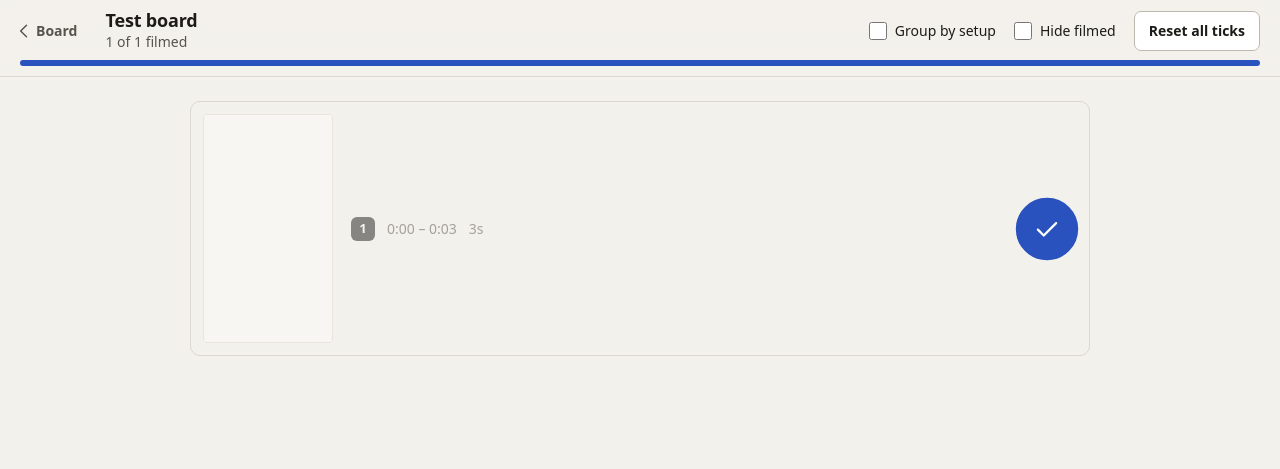
Test: when everything is filmed and hidden, it says so
The image size is (1280, 469).
Click the checkbox labelled "Hide filmed" at x=1023, y=31, box [1014,22,1032,40]
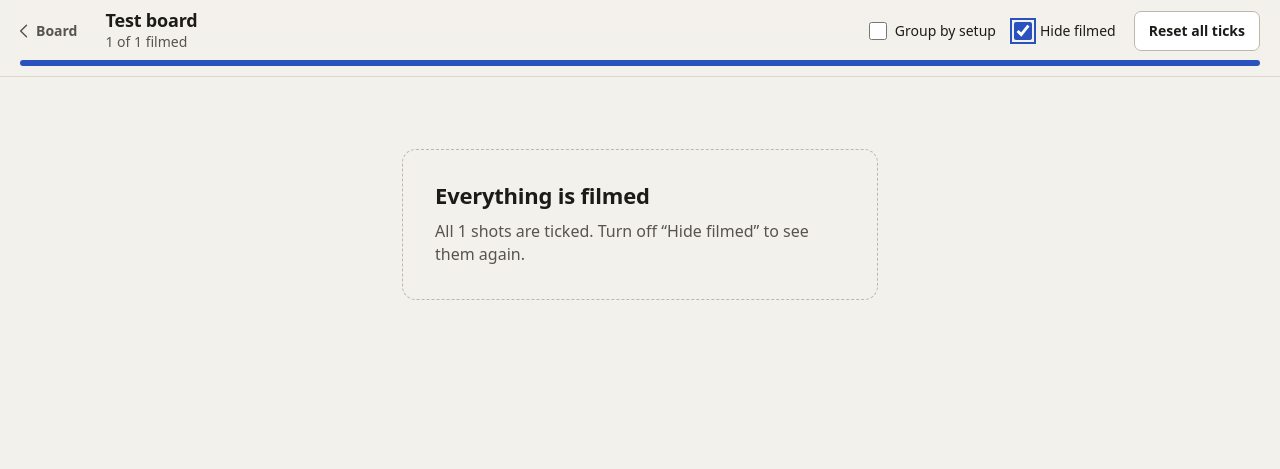
Expected: the heading "Everything is filmed" is shown, [435,182,650,208]
